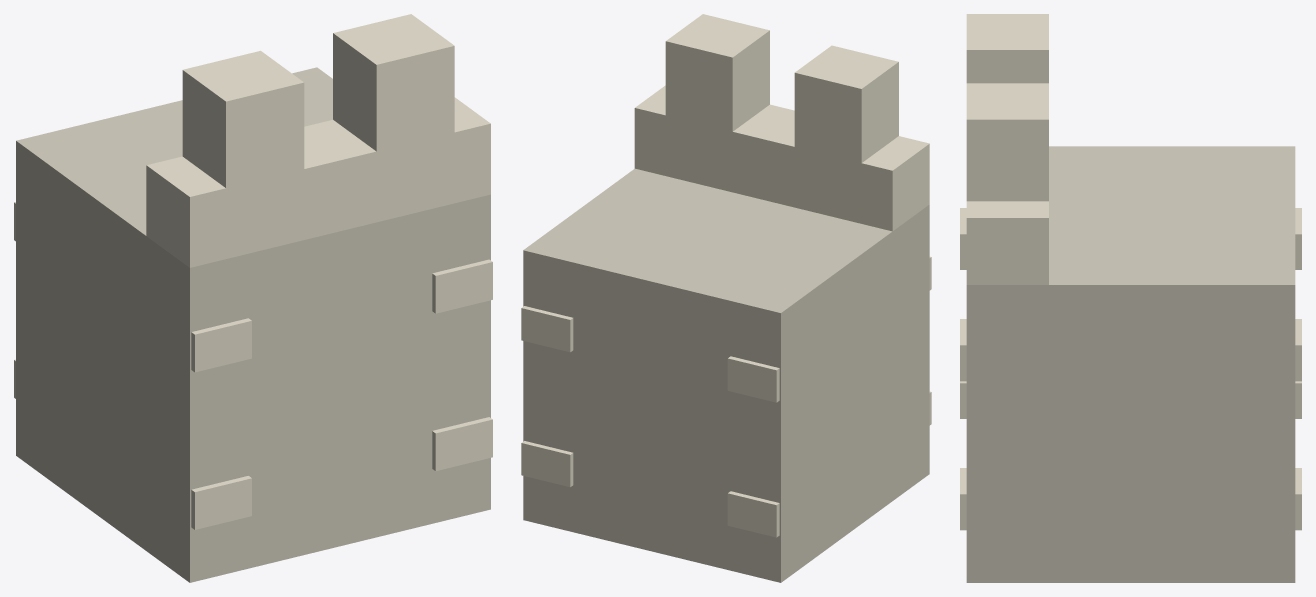
File: curtain-low-2m.glb
3 renders of one model, left to right at view 1: azimuth 30°, elevation 25°; view 2: azimuth 150°, elevation 25°; view 3: azimuth 270°, elevation 25°, orthographic. The views are drawn at different scales.
Visible parts, largest first — view 1: curtain-low-2m; view 2: curtain-low-2m; view 3: curtain-low-2m.
Boxes of the visible parts, x1,y1,x2,y2 form: curtain-low-2m: (14,14,492,582); curtain-low-2m: (521,14,931,582); curtain-low-2m: (960,14,1301,582).
Bounding box in the file's own units: 2 × 3 × 2.08.
